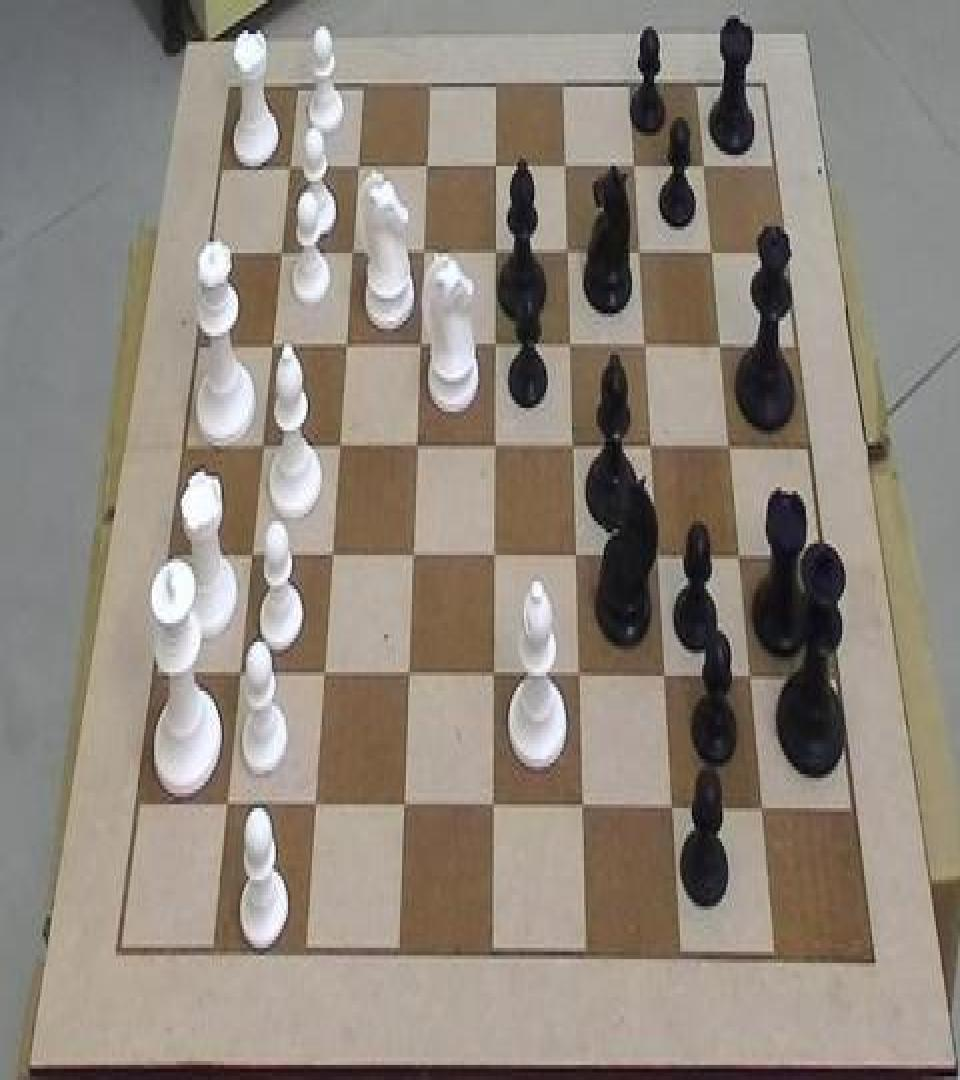xcorner: (692, 146, 712, 184), (622, 146, 642, 184), (553, 147, 573, 185), (483, 147, 503, 185), (414, 147, 434, 185), (346, 147, 366, 185), (277, 149, 297, 187), (700, 232, 720, 270), (628, 232, 648, 270), (555, 232, 575, 270), (483, 232, 503, 270), (411, 234, 431, 272), (340, 234, 360, 272), (269, 234, 289, 272), (709, 324, 729, 362), (633, 324, 653, 362), (558, 326, 578, 364), (483, 326, 503, 364), (408, 326, 428, 364), (334, 326, 354, 364), (260, 326, 280, 364), (719, 426, 739, 464), (640, 426, 660, 464), (561, 426, 581, 464), (483, 426, 503, 464), (405, 426, 425, 464), (328, 426, 348, 464), (251, 426, 271, 464), (729, 538, 749, 576), (646, 538, 666, 576), (564, 536, 584, 574), (483, 536, 503, 574), (401, 536, 421, 574), (321, 536, 341, 574), (240, 536, 260, 574), (740, 659, 760, 697), (654, 657, 674, 695), (568, 657, 588, 695), (483, 657, 503, 695), (398, 655, 418, 693), (313, 655, 333, 693), (229, 655, 249, 693), (753, 791, 773, 829), (662, 791, 682, 829), (572, 789, 592, 827), (482, 789, 502, 827), (393, 787, 413, 825), (305, 786, 325, 824), (216, 786, 236, 824)
